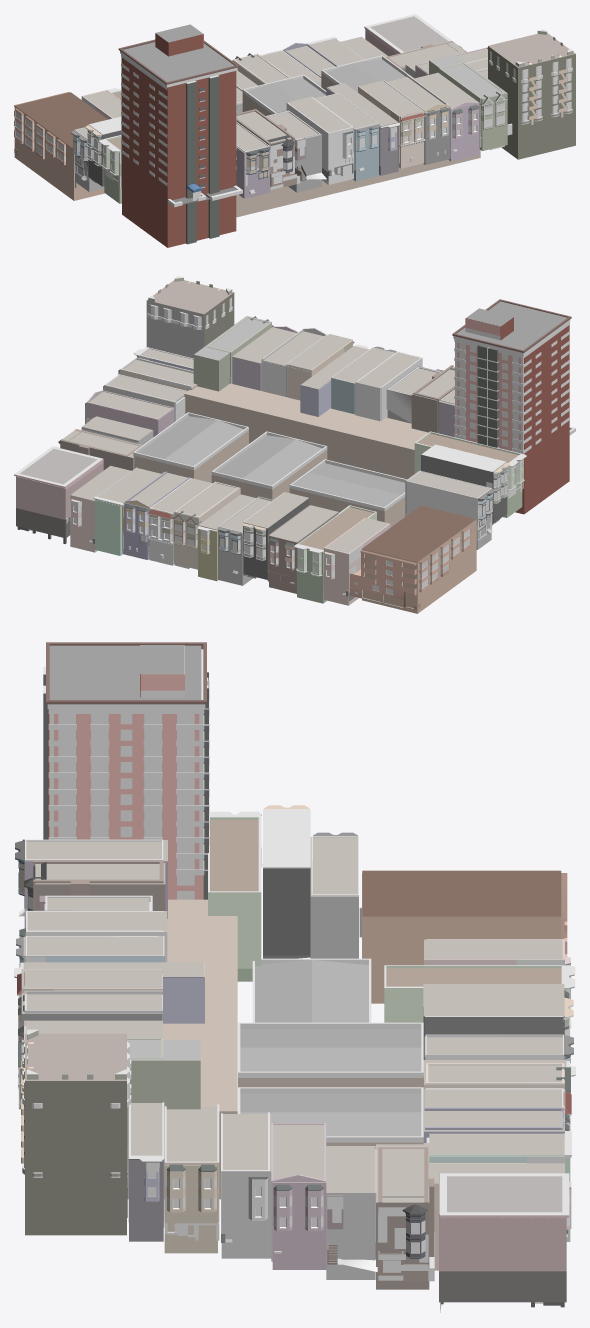
File: city_west5.dae
3 renders of one model, top to bottom at view 1: azimuth 30°, elevation 25°; view 2: azimuth 150°, elevation 25°; view 3: azimuth 270°, elevation 25°, orthographic. The views are drawn at different scales.
Parts seen in each view (by area): view 1: city_west5_a1000, city_west5_a1500; view 2: city_west5_a1000, city_west5_a1500; view 3: city_west5_a1000, city_west5_a1500.
Part boxes in pixels (x1,y1,x2,y2): city_west5_a1000: [14, 16, 575, 247]; city_west5_a1500: [14, 14, 573, 217]; city_west5_a1000: [16, 280, 569, 613]; city_west5_a1500: [14, 276, 575, 611]; city_west5_a1000: [21, 645, 570, 1302]; city_west5_a1500: [14, 642, 575, 1312].
Bounding box in the file's own units: 135 × 94.73 × 67.7.
